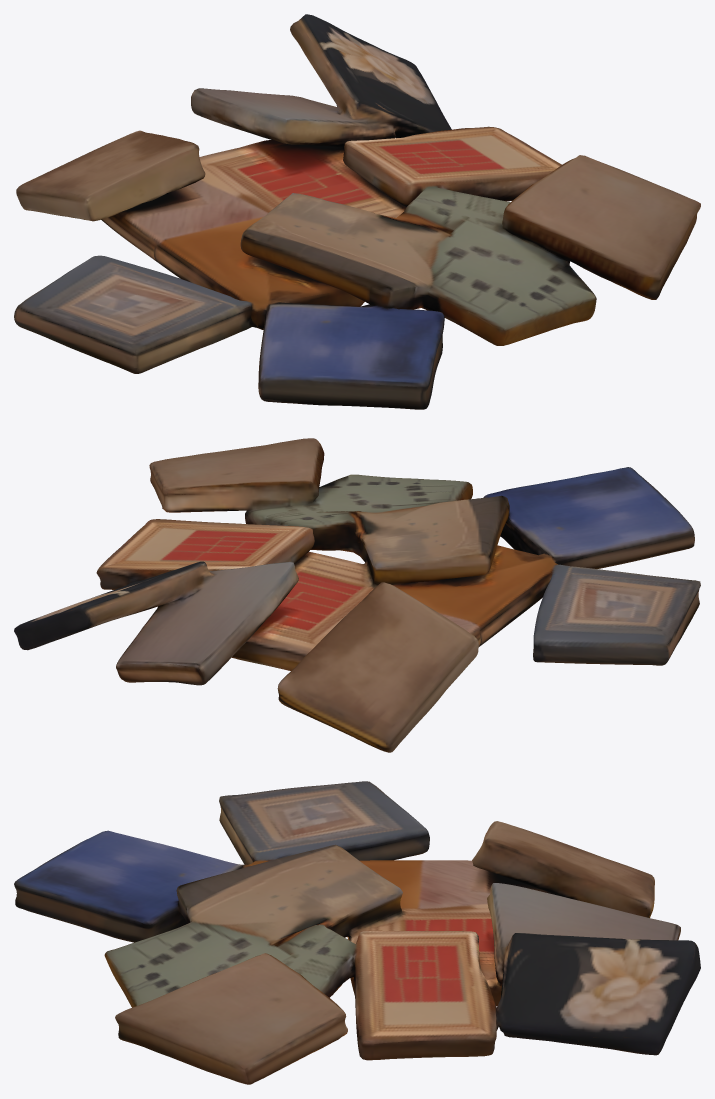
File: books1.fbx
The picture shows the model from 3 angles, top to bottom: view 1: azimuth 30°, elevation 25°; view 2: azimuth 150°, elevation 25°; view 3: azimuth 270°, elevation 25°; orthographic projection. The views are drawn at different scales.
Visible parts, largest first — view 1: model; view 2: model; view 3: model.
Part boxes in pixels (x1,y1,x2,y2): model: (14,14,700,409); model: (14,438,700,752); model: (14,781,700,1084).
Bounding box in the file's own units: 190 × 29.85 × 190.
